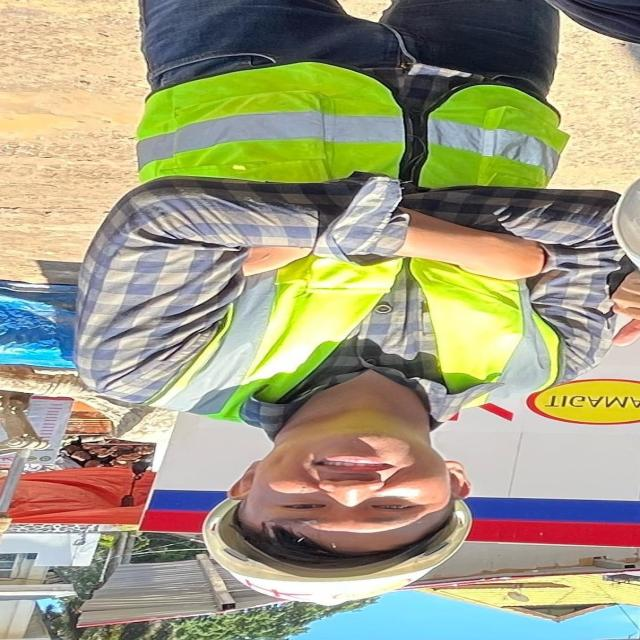safetyhelmet: (184, 384, 503, 606)
